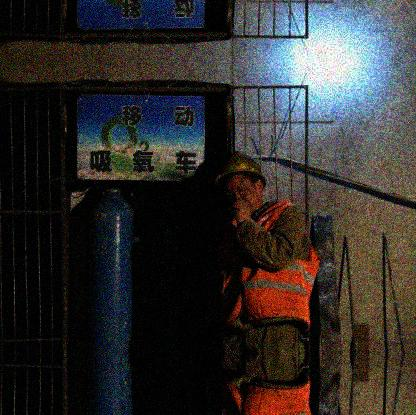helmet: (212, 152, 265, 217)
